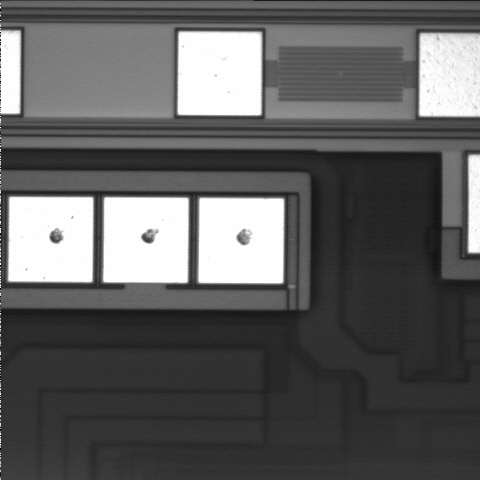pad: (103, 197, 188, 283), (198, 198, 284, 283), (8, 197, 93, 282), (178, 32, 262, 115)
